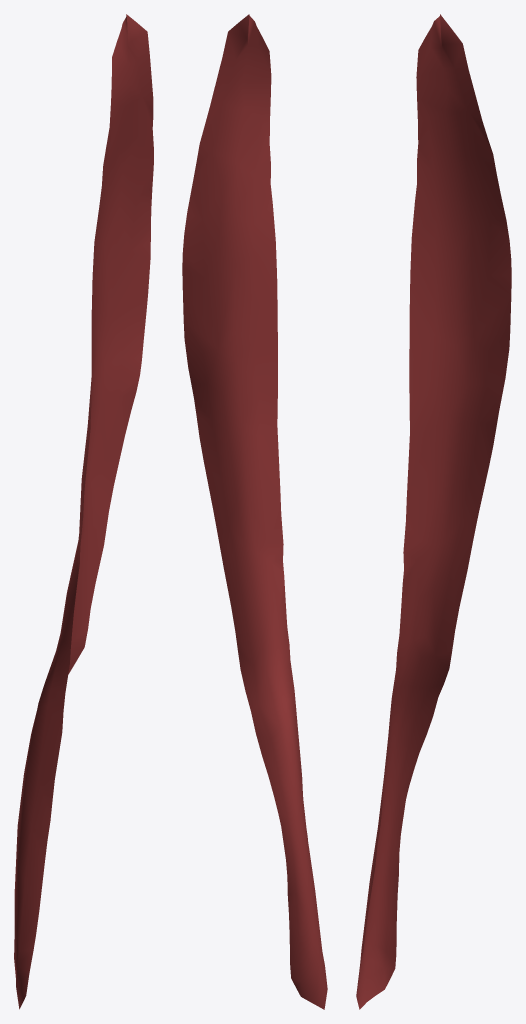
File: posterior-intermuscular-septum-of-leg-l.glb
The picture shows the model from 3 angles, left to right: view 1: azimuth 30°, elevation 25°; view 2: azimuth 150°, elevation 25°; view 3: azimuth 330°, elevation 25°; orthographic projection. The views are drawn at different scales.
Parts seen in each view (by area): view 1: Posterior intermuscular septum of leg.l; view 2: Posterior intermuscular septum of leg.l; view 3: Posterior intermuscular septum of leg.l.
Boxes of the visible parts, x1,y1,x2,y2 form: Posterior intermuscular septum of leg.l: (14, 14, 153, 1009); Posterior intermuscular septum of leg.l: (182, 14, 327, 1009); Posterior intermuscular septum of leg.l: (356, 14, 511, 1009).
Bounding box in the file's own units: 0.0434 × 0.2911 × 0.0198.
